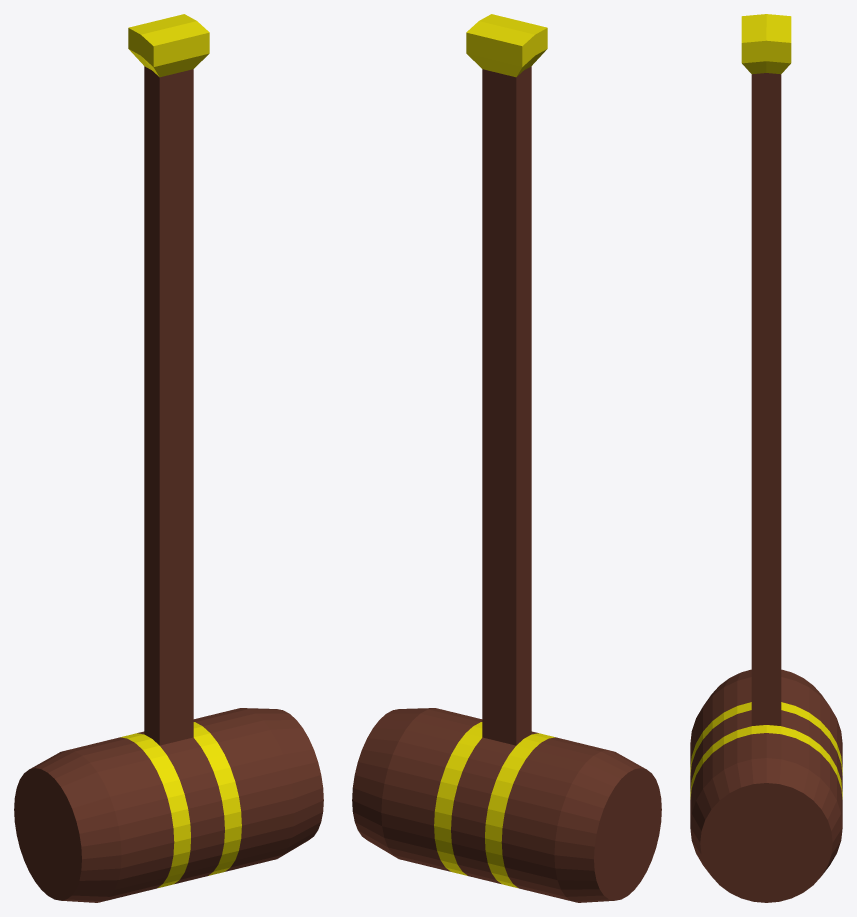
The model's file is trap.fbx.
The picture shows the model from 3 angles, left to right: view 1: azimuth 30°, elevation 25°; view 2: azimuth 150°, elevation 25°; view 3: azimuth 270°, elevation 25°; orthographic projection. The views are drawn at different scales.
Parts seen in each view (by area): view 1: Cylinder; view 2: Cylinder; view 3: Cylinder.
Part boxes in pixels (x1,y1,x2,y2): Cylinder: [14, 14, 323, 902]; Cylinder: [352, 14, 661, 902]; Cylinder: [690, 14, 842, 902].
Bounding box in the file's own units: 357 × 1198 × 200.
